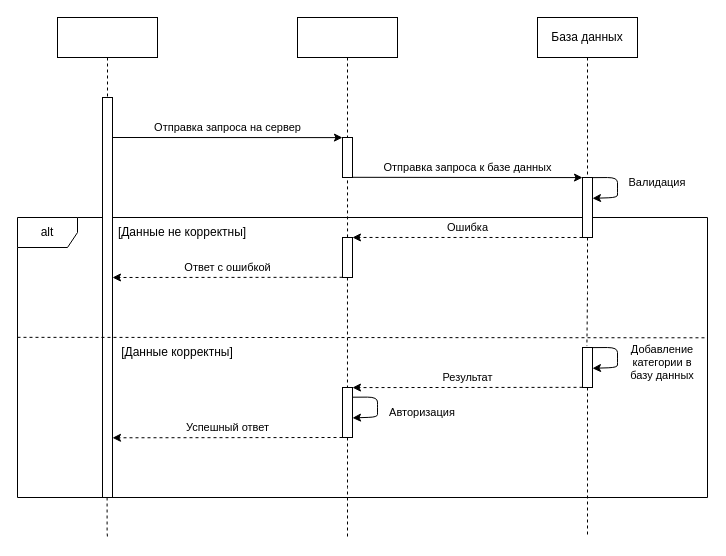
The diagram is 726 pixels wide and 556 high, and some of its shapes have lost their labels. Here are the shapes that lost their labels. From the top down, the centre of each, then its label:
[107,57]: Пользователь
[347,77]: Сервер
